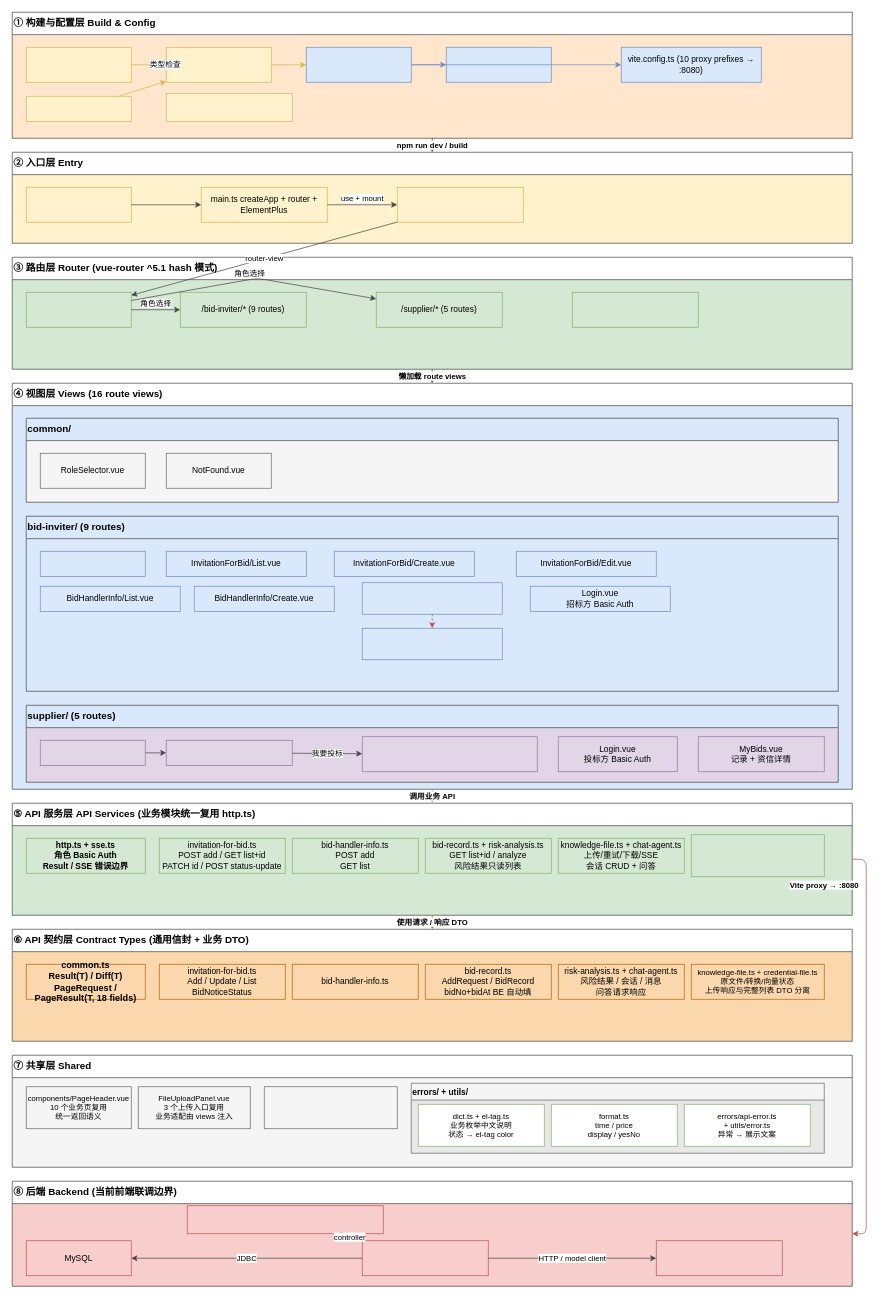
The diagram is 884 pixels wide and 1299 high, and some of its shapes have lost their labels. The shapes that lost their labels are listed below. From the top down, each one's centre as x and y in pixels, then its label:
At [78,64]: "TypeScript ~6.0.2".
At [218,64]: "vue-tsc ^3.3.5".
At [358,64]: "Vite ^8.1.1".
At [498,64]: "@vitejs/plugin-vue".
At [78,108]: "tsconfig (3 files)".
At [229,107]: "Vitest ^4.1.10 当前无测试文件".
At [78,204]: "index.html #app mount".
At [460,204]: "App.vue sticky header + router-view".
At [78,309]: "/ → RoleSelector".
At [635,309]: "/:pathMatch(.*)* → NotFound".
At [92,563]: "Home.vue (4 group cards)".
At [432,598]: "BidRecord/List.vue 触发风险分析".
At [432,644]: "RiskAnalysis/List.vue 读取落库结果（只读）".
At [92,752]: "Home.vue (1 卡片)".
At [229,752]: "InvitationList.vue".
At [449,754]: "BidRecordCreate.vue 创建成功 → ID 解锁上传".
At [757,855]: "bidder-bid-record.ts + credential-file.ts 投标 CRUD / 资信批量上传 列表/删除/下载/SSE".
At [330,1107]: "composables/usePagedList.ts 5 个列表共用 分页 / loading / 旧响应保护".
At [285,1219]: "Java Controllers + Basic Auth 文件 / 投标 / 会话 / 风险代理 数据库为状态事实源".
At [425,1258]: "Spring Boot :8080".
At [719,1258]: "to-markdown / chat-agent / OpenAI 兼容模型".
